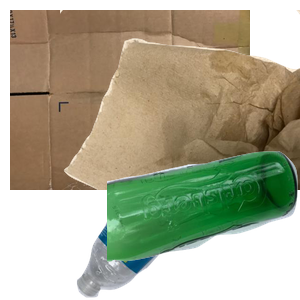cardboard: (10, 10, 250, 190)
glass: (107, 149, 300, 300)
plastic: (74, 156, 280, 300)
trash: (60, 10, 300, 190)
